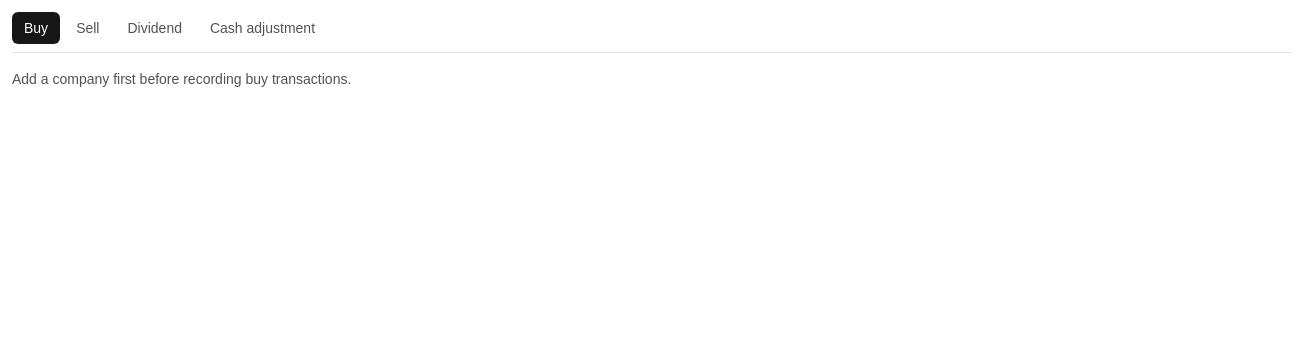
Test: TransactionForms › still shows the cash adjustment form when there are no companies
Click the button "Cash adjustment" at (263, 28), box [198, 12, 327, 44]
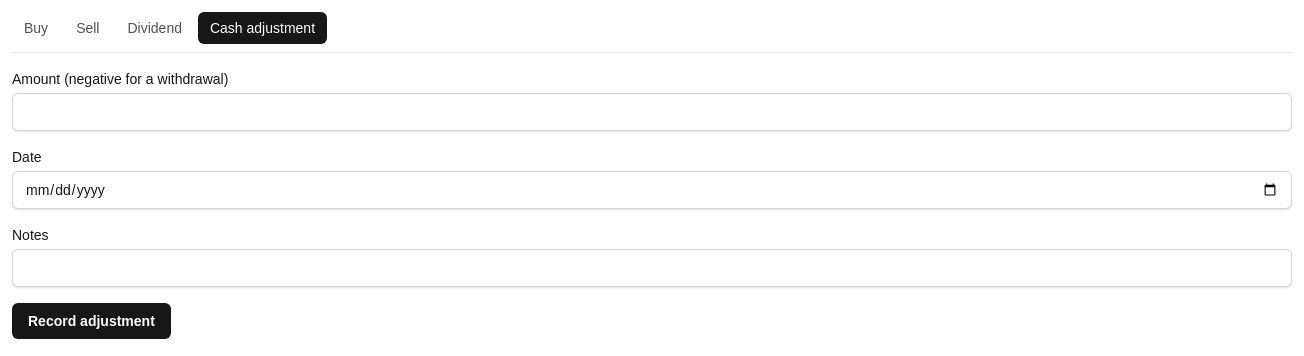
Now the button "Record adjustment" is shown, box [12, 303, 171, 339]
